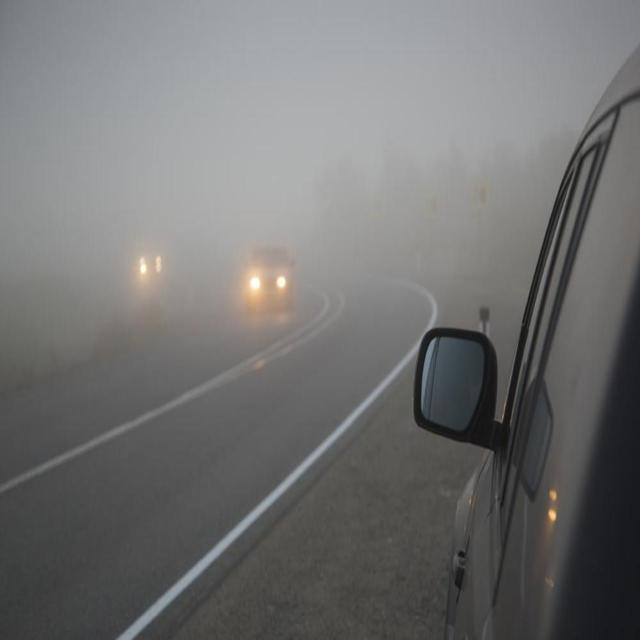car: (418, 36, 640, 634), (242, 242, 294, 314), (135, 241, 163, 279)
